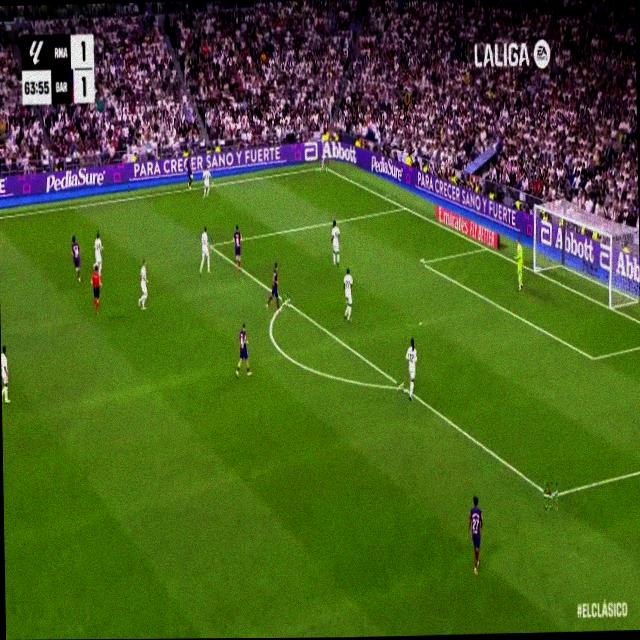bigarea_bottom_inner: (543, 480, 557, 510)
bigarea_top_inner: (208, 237, 214, 253)
bottom_arc_area_intersection: (396, 374, 406, 395)
corner: (318, 160, 328, 172)
smallarea_top_inner: (419, 256, 424, 268)
top_arc_area_intersection: (282, 290, 290, 308)
